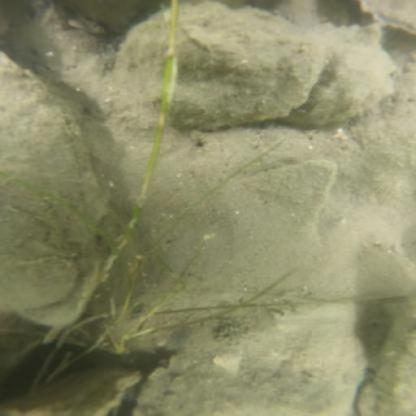Oyster- Indeterminate: (2, 50, 103, 320)
Oyster-Closed: (127, 291, 364, 412), (115, 4, 319, 125), (283, 20, 393, 127), (1, 364, 143, 415), (358, 321, 416, 413)
